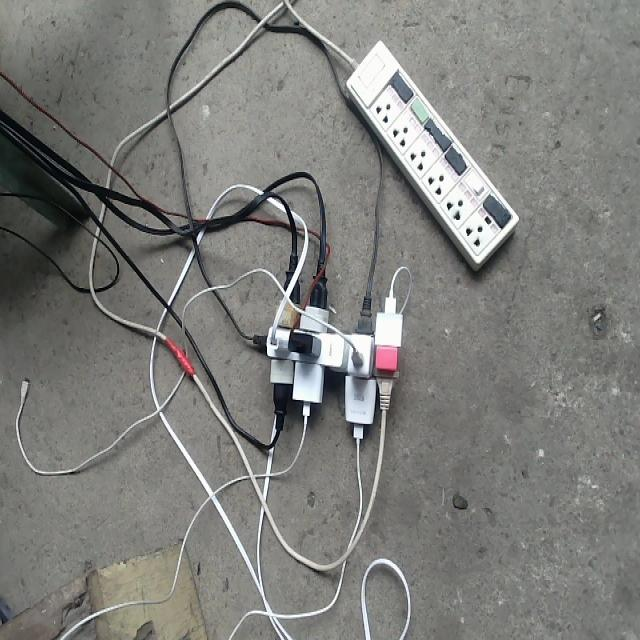-: (264, 291, 403, 429)
